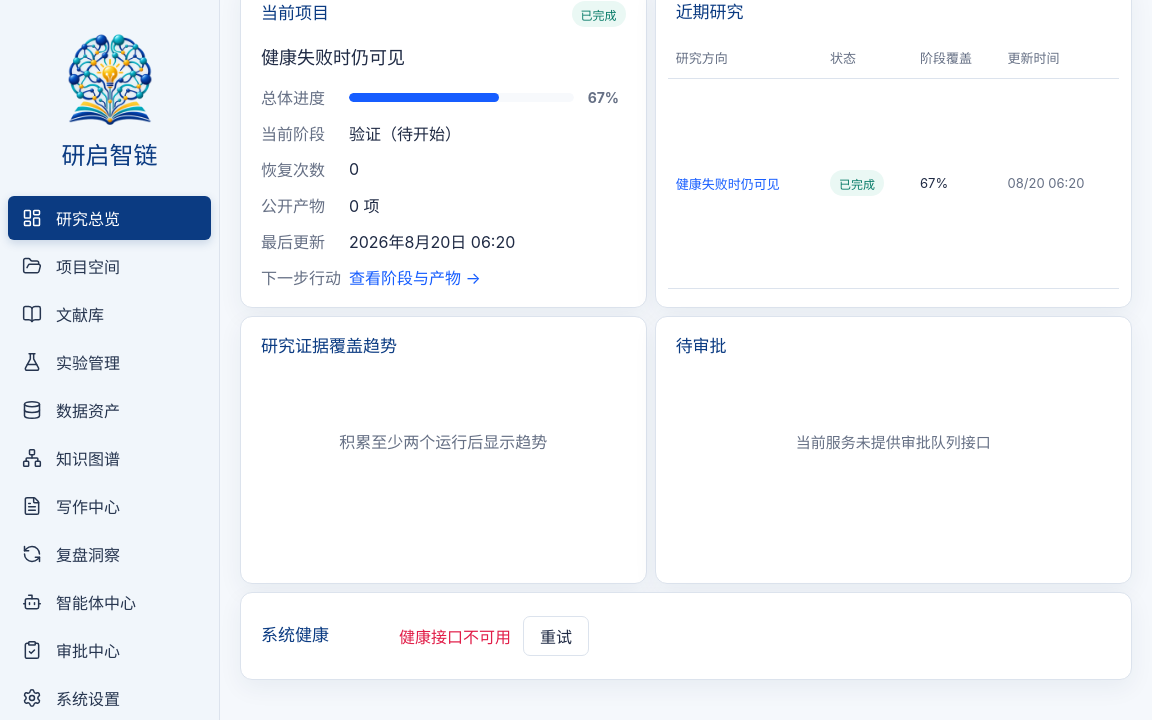
Test case: keeps run content usable when health fails and retries health independently
This screenshot has width=1152, height=720.
(page scrolled)
Expected: the button with aria-label "打开健康失败时仍可见" is shown, left=261, top=43, right=626, bottom=69
Expected: the message shows "健康接口不可用", left=399, top=627, right=511, bottom=647
What coordinates should you click on to do the following:
click the button "重试"
I would click on:
 (556, 636)
Its box is left=523, top=616, right=589, bottom=656.
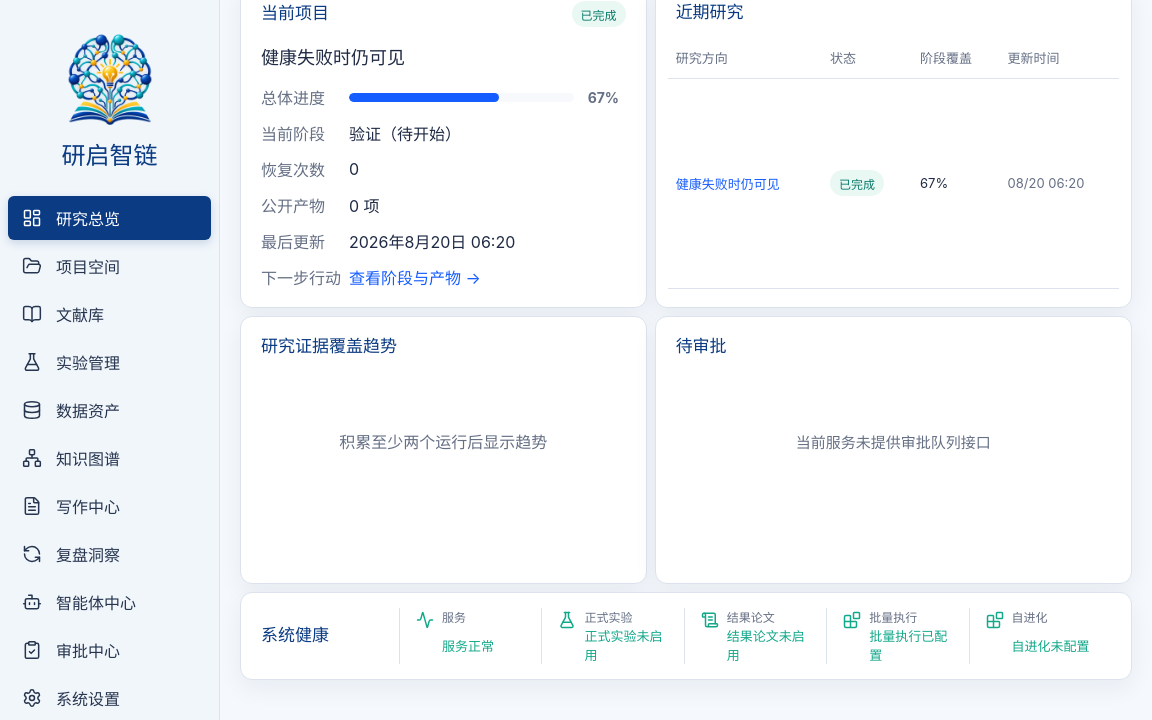
Now the text "服务正常" is shown, box left=442, top=638, right=494, bottom=654
